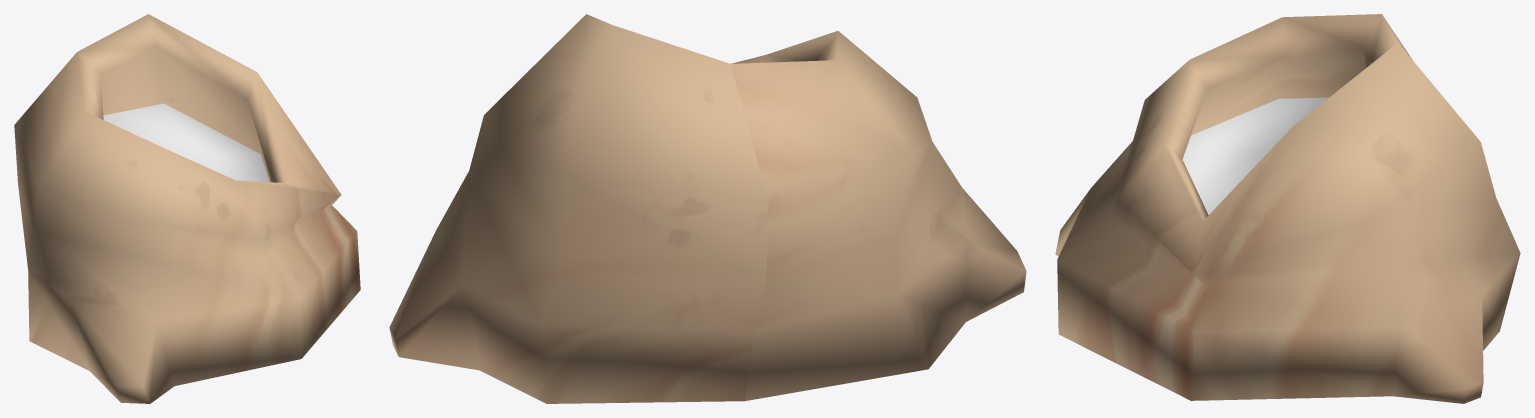
File: SM_PROP_sack_01.fbx
3 views of the same model, side by side, from view 1: azimuth 30°, elevation 25°; view 2: azimuth 150°, elevation 25°; view 3: azimuth 270°, elevation 25° (orthographic). The views are drawn at different scales.
Parts seen in each view (by area): view 1: SM_PROP_sack_01; view 2: SM_PROP_sack_01; view 3: SM_PROP_sack_01.
Boxes of the visible parts, left/top/right/bottom form: SM_PROP_sack_01: left=14, top=14, right=360, bottom=403; SM_PROP_sack_01: left=389, top=14, right=1026, bottom=403; SM_PROP_sack_01: left=1055, top=14, right=1520, bottom=403.
Size of the model in its own units: 62.72 by 49.3 by 70.05.
